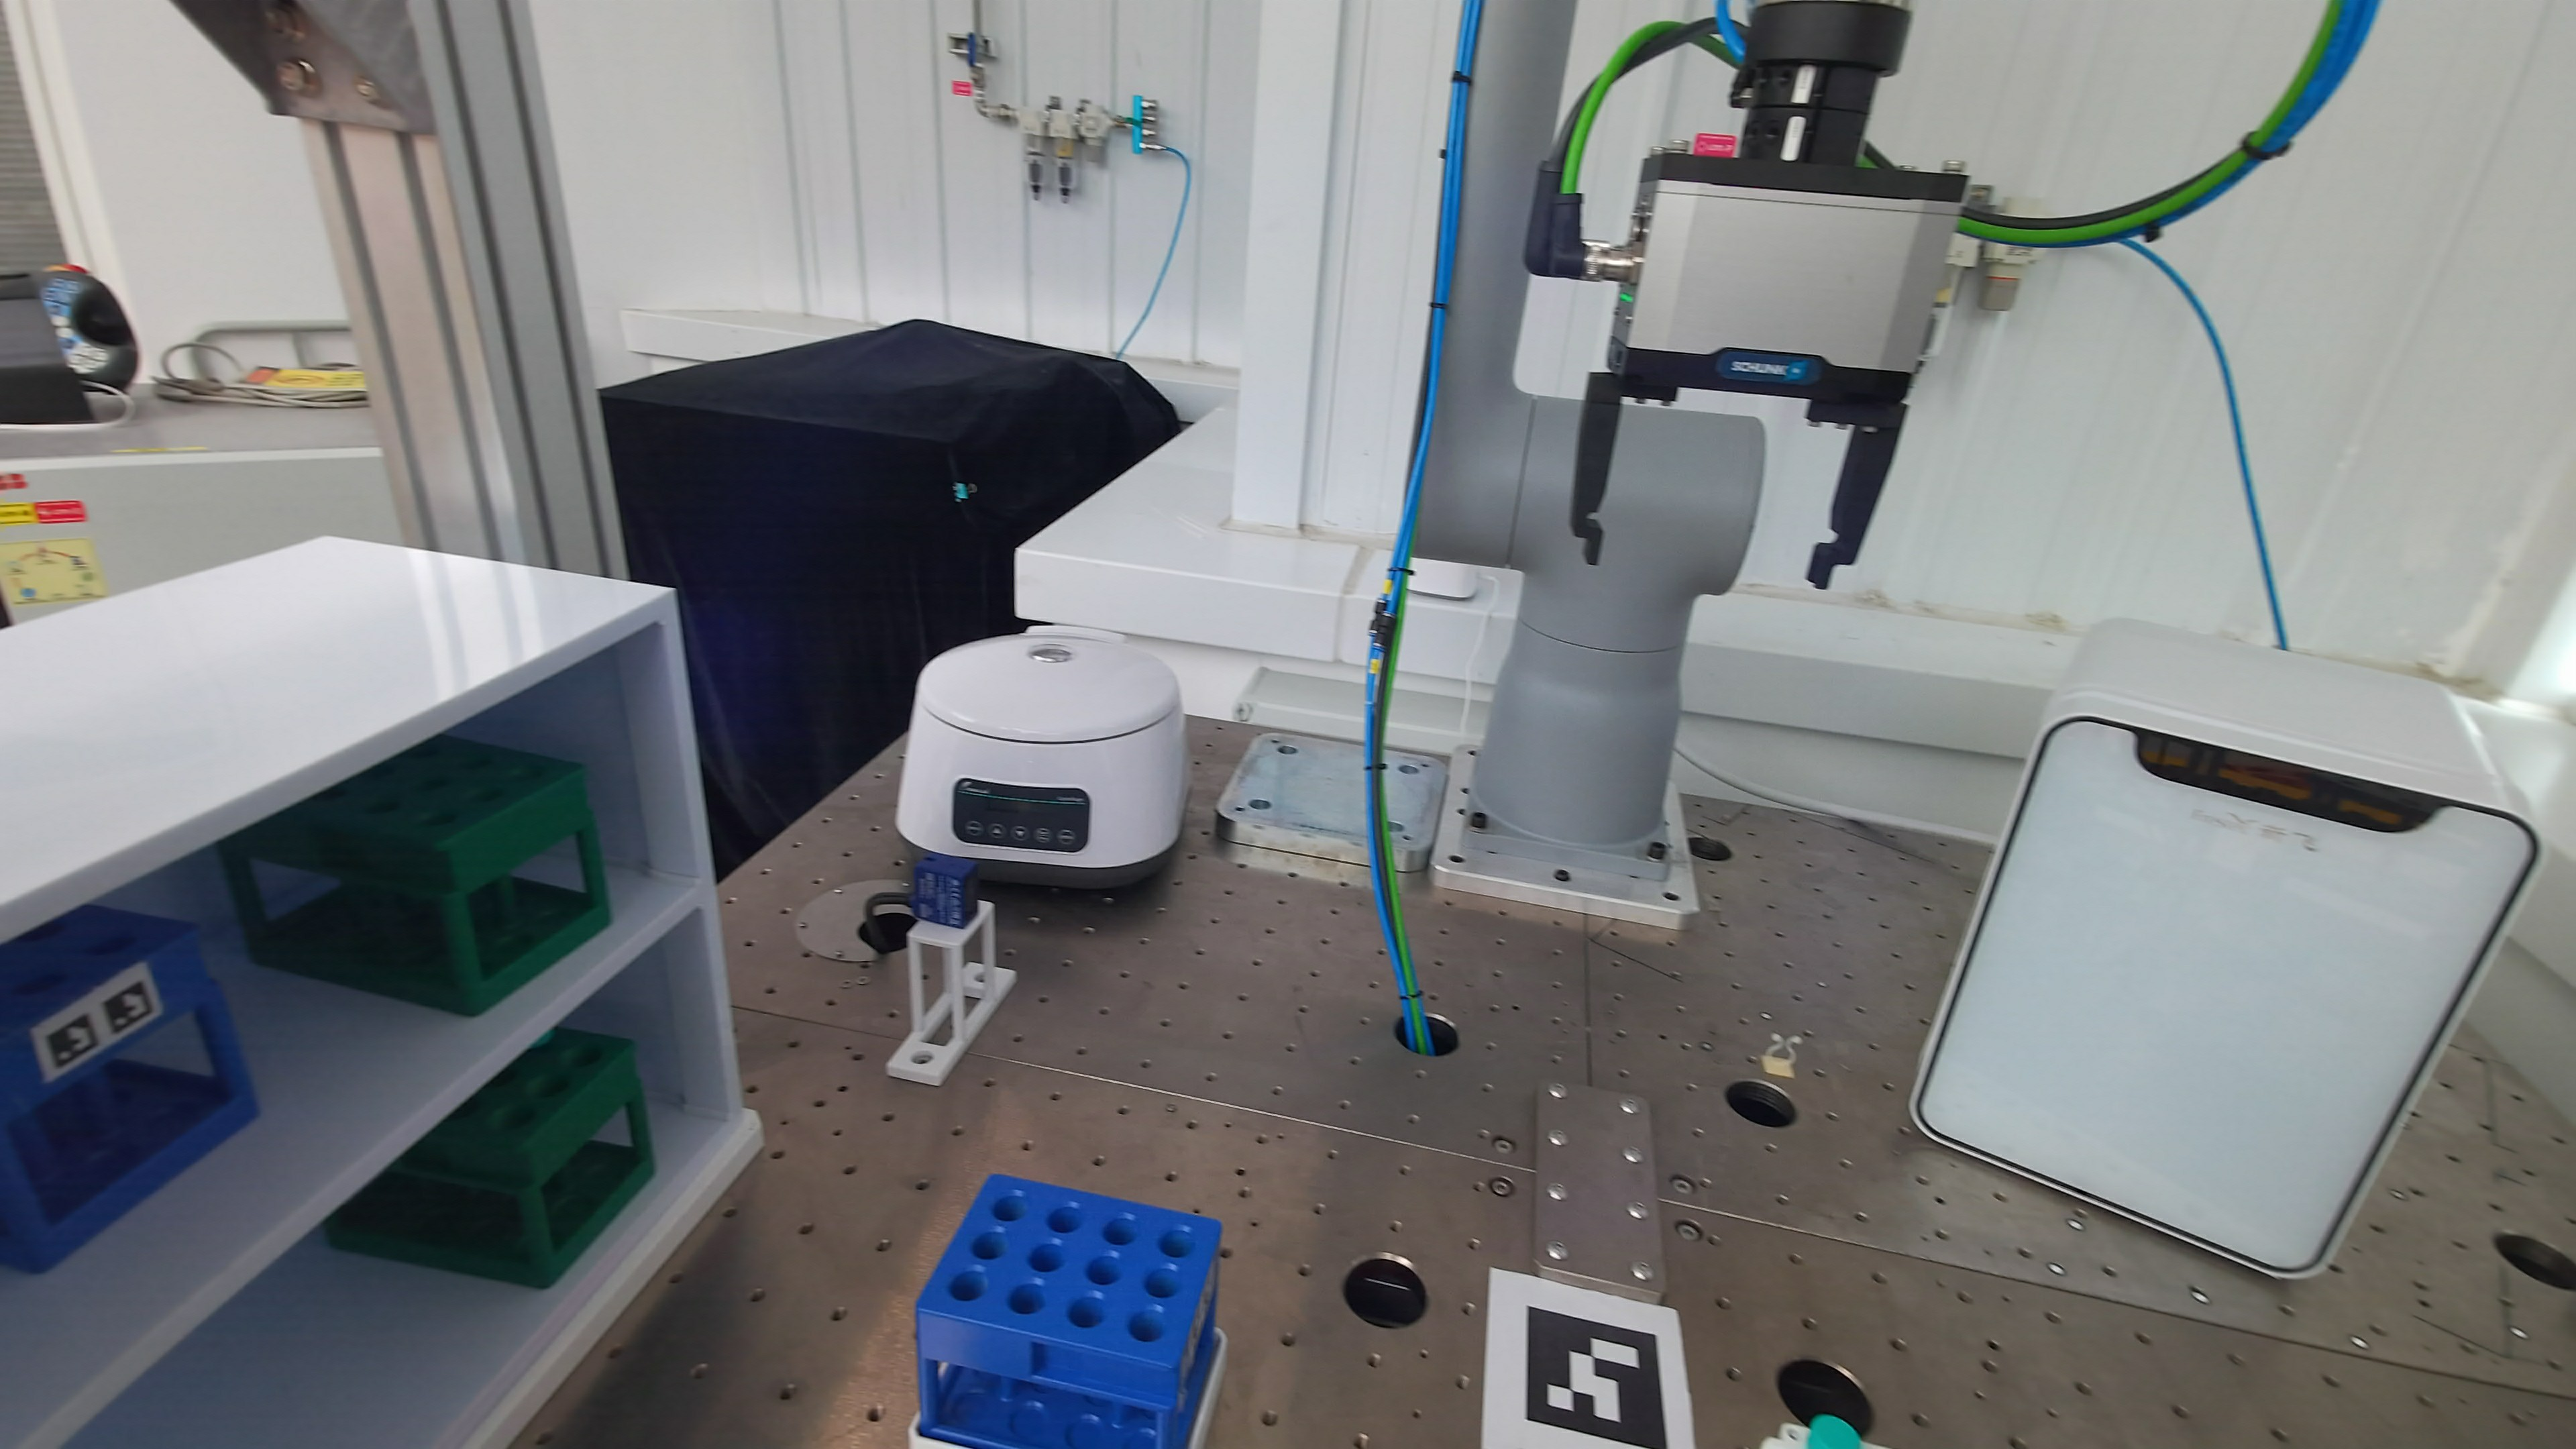10ML_sorting_tube_rack: (0, 906, 258, 1269), (916, 1175, 1221, 1449)
5ML_centrifuge_tube: (1805, 1414, 1863, 1449)
5ML_sorting_tube_rack: (219, 736, 610, 1016), (326, 1028, 655, 1286)
centrifuge_close: (897, 628, 1189, 888)
refrigerator_close: (1913, 621, 2539, 1277)
sorting_tube_rack_base: (908, 1329, 1228, 1449)
tube_rack_storage_cabinet: (0, 538, 757, 1445)
